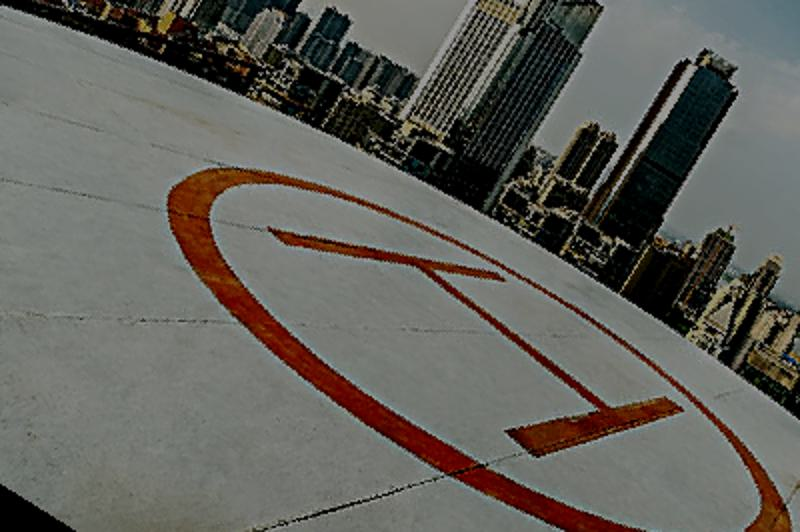Apron: (161, 159, 791, 531)
